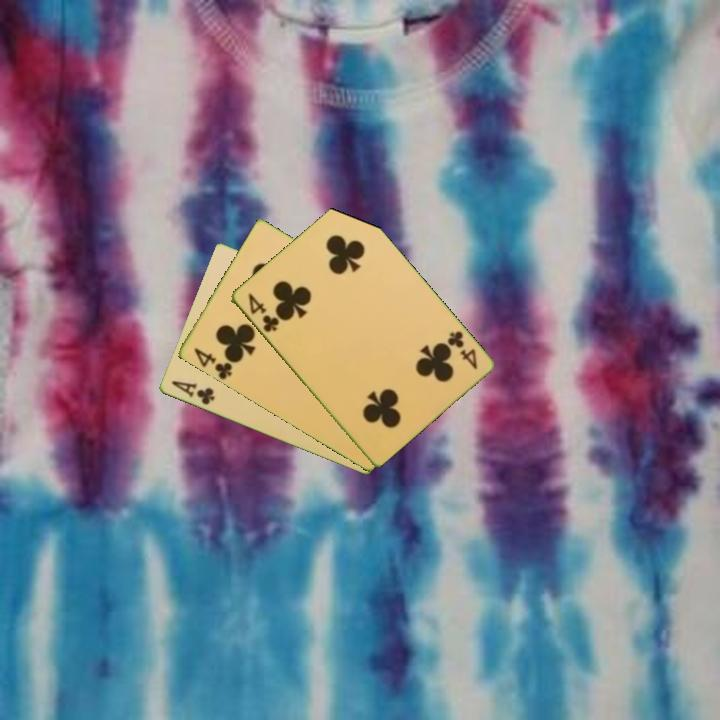4c: (190, 344, 237, 383), (244, 289, 281, 336), (443, 327, 480, 372)
Ac: (167, 377, 217, 408)
